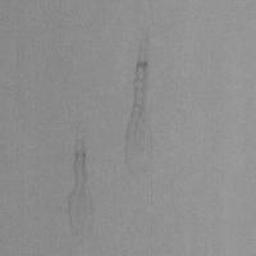Water spot: (123, 22, 154, 187), (65, 123, 96, 243)
